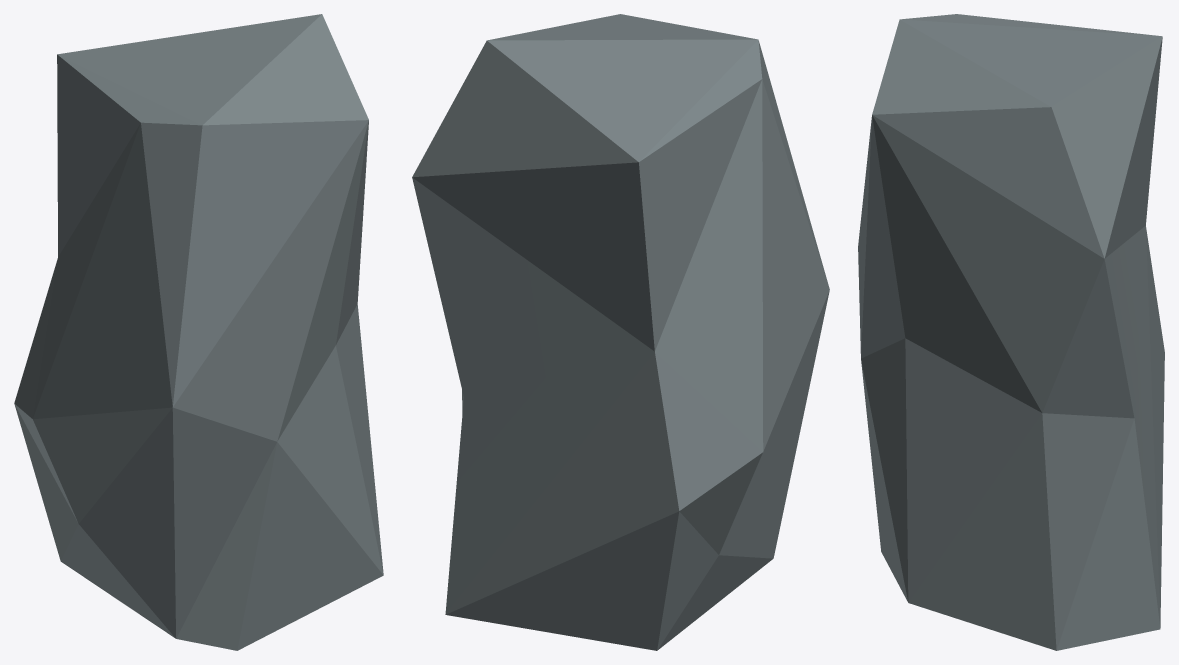
File: BigRock_02.glb
The picture shows the model from 3 angles, left to right: view 1: azimuth 30°, elevation 25°; view 2: azimuth 150°, elevation 25°; view 3: azimuth 270°, elevation 25°; orthographic projection.
Parts seen in each view (by area): view 1: BigRock_02_LOD0; view 2: BigRock_02_LOD0; view 3: BigRock_02_LOD0.
Boxes of the visible parts, box(x1,y1,x2,y2) form: BigRock_02_LOD0: box(14, 14, 383, 650); BigRock_02_LOD0: box(412, 14, 829, 650); BigRock_02_LOD0: box(858, 14, 1164, 650).
Size of what is drawn, in the model's own units: 1.61 by 2.59 by 1.3.
Materials: 1 (1 with a texture image).
